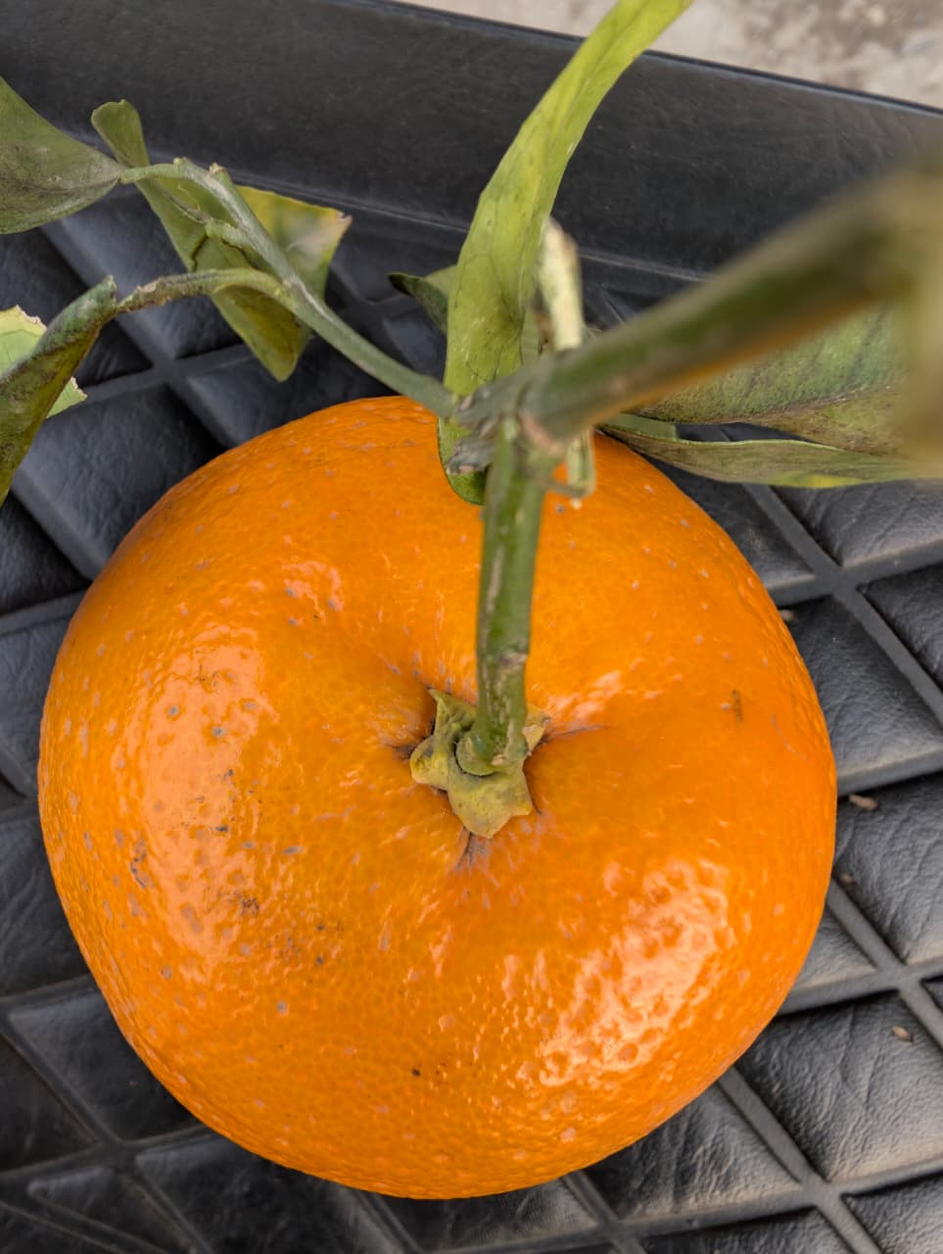orange: (206, 286, 825, 1189)
